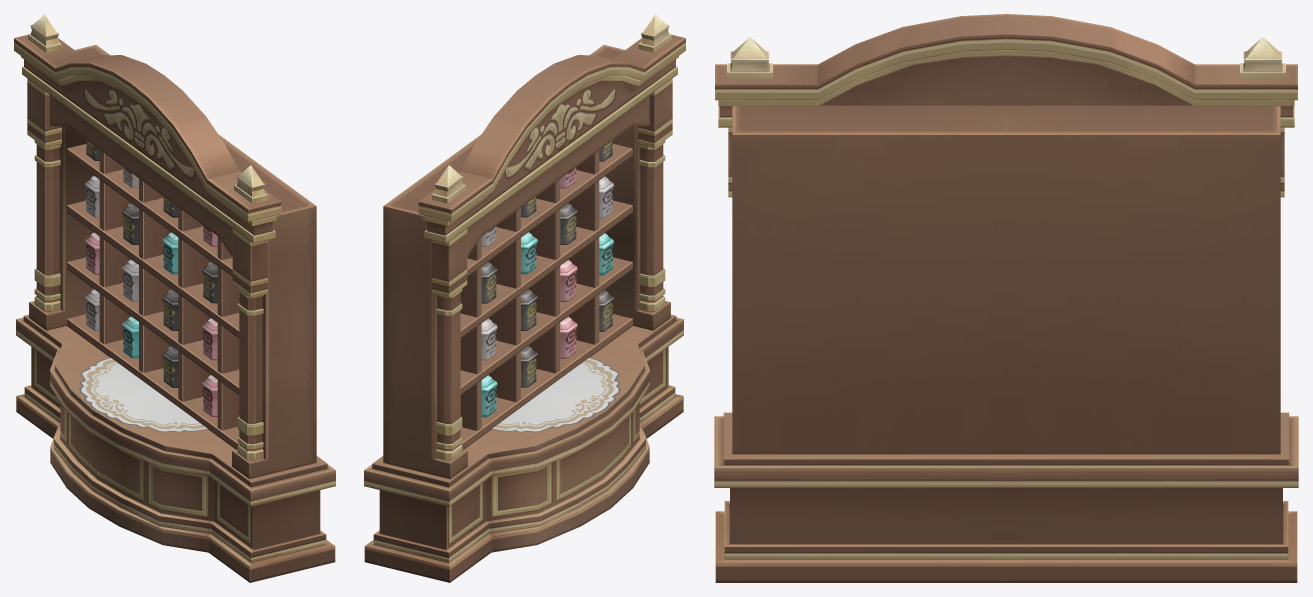
File: my_teaparty_01_shelf_01.glb
3 views of the same model, side by side, from view 1: azimuth 30°, elevation 25°; view 2: azimuth 150°, elevation 25°; view 3: azimuth 270°, elevation 25° (orthographic). The views are drawn at different scales.
Visible parts, largest first — view 1: my_teaparty_01_shelf_01; view 2: my_teaparty_01_shelf_01; view 3: my_teaparty_01_shelf_01.
Part boxes in pixels (box(x1,y1,x2,y2)): my_teaparty_01_shelf_01: box(14, 14, 335, 582); my_teaparty_01_shelf_01: box(364, 14, 685, 582); my_teaparty_01_shelf_01: box(714, 14, 1298, 582).
Bounding box in the file's own units: 0.00557 × 0.017 × 0.0174.
Materials: 1 (1 with a texture image).
